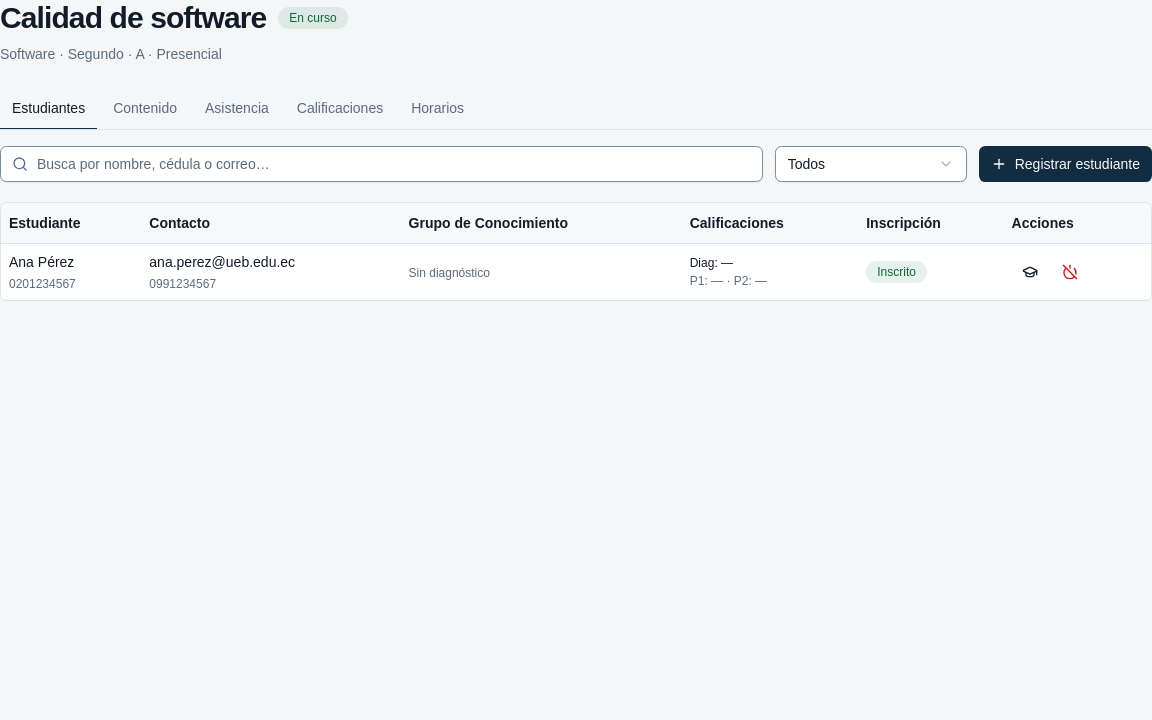
it: Módulo Docente › evita inscripciones duplicadas y conserva el formulario cuando el servidor rechaza
The width and height of the screenshot is (1152, 720).
Expected: the text "Ana Pérez" is shown, [9,254,74,270]
Click the button "Registrar estudiante" at (1065, 164), box [979,146,1151,182]
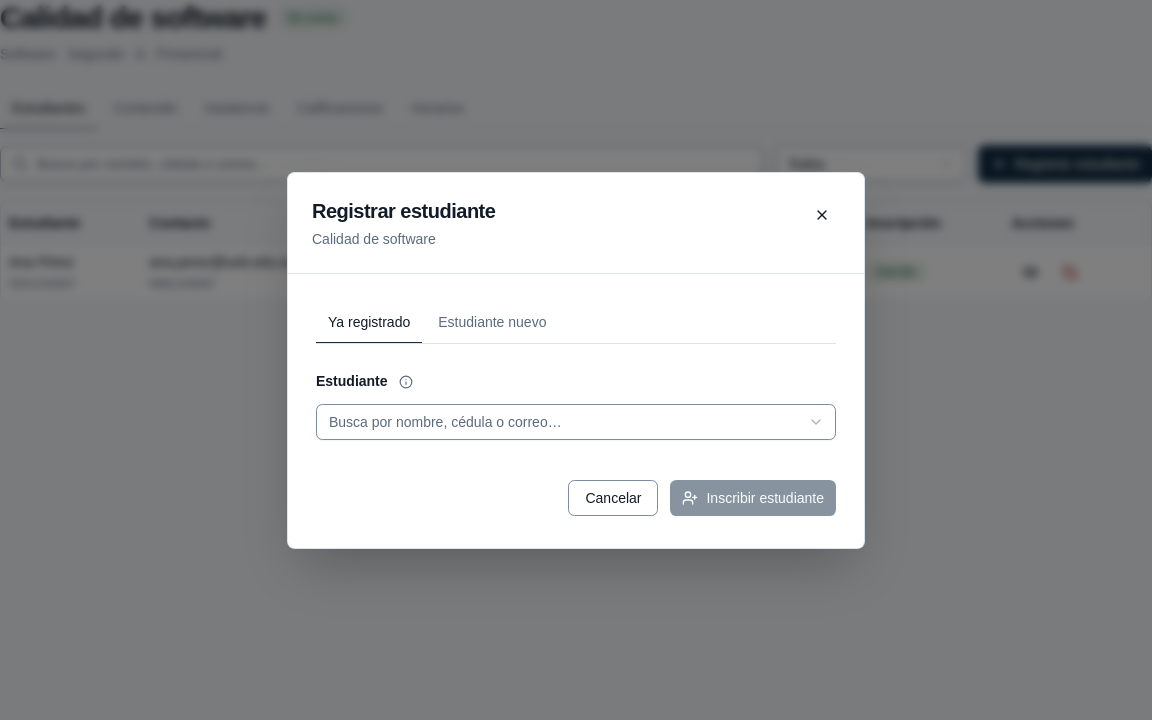
Click the dropdown labelled "Estudiante" at (576, 422), box [316,404,836,440]
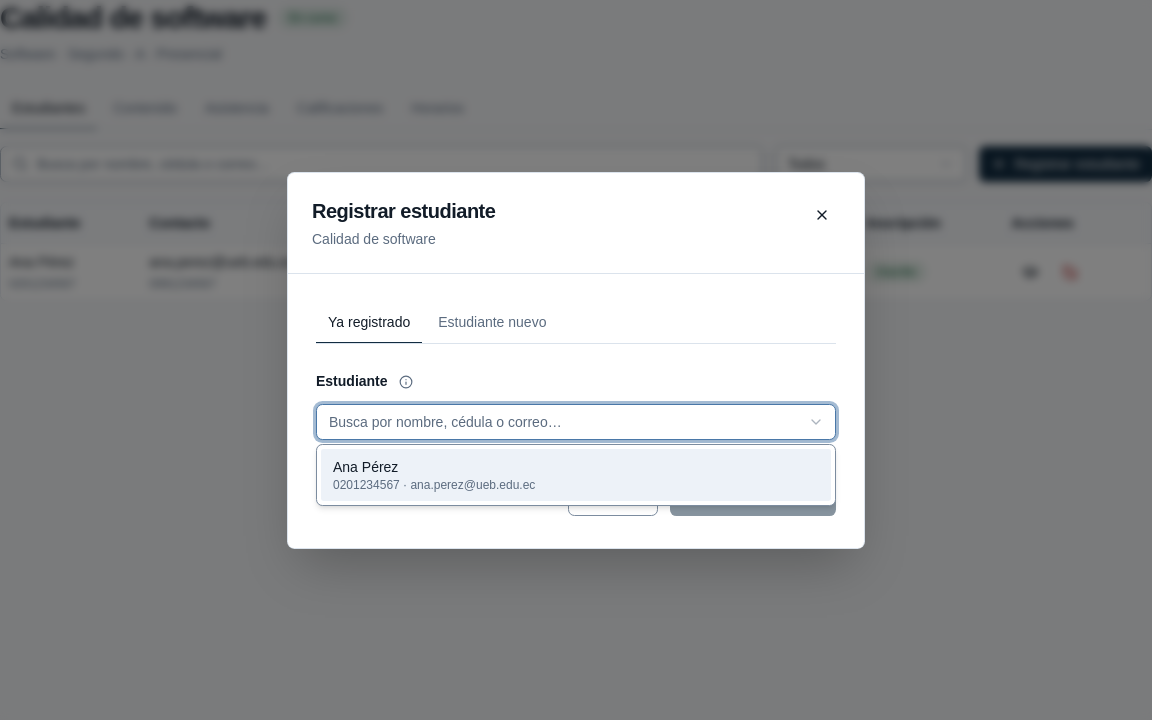
Click the option "Ana Pérez 0201234567 · ana.perez@ueb.edu.ec" at (366, 467), box [321,449,831,501]
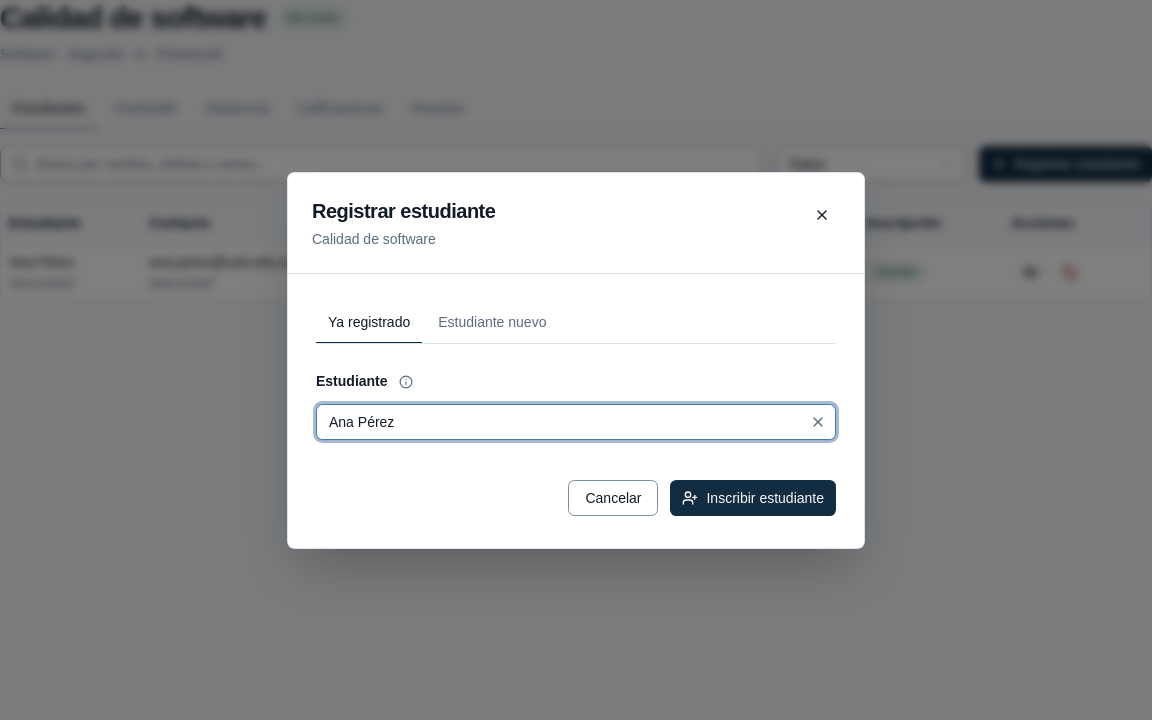
Submit the form named "Registrar estudiante", box [312,298,840,524]
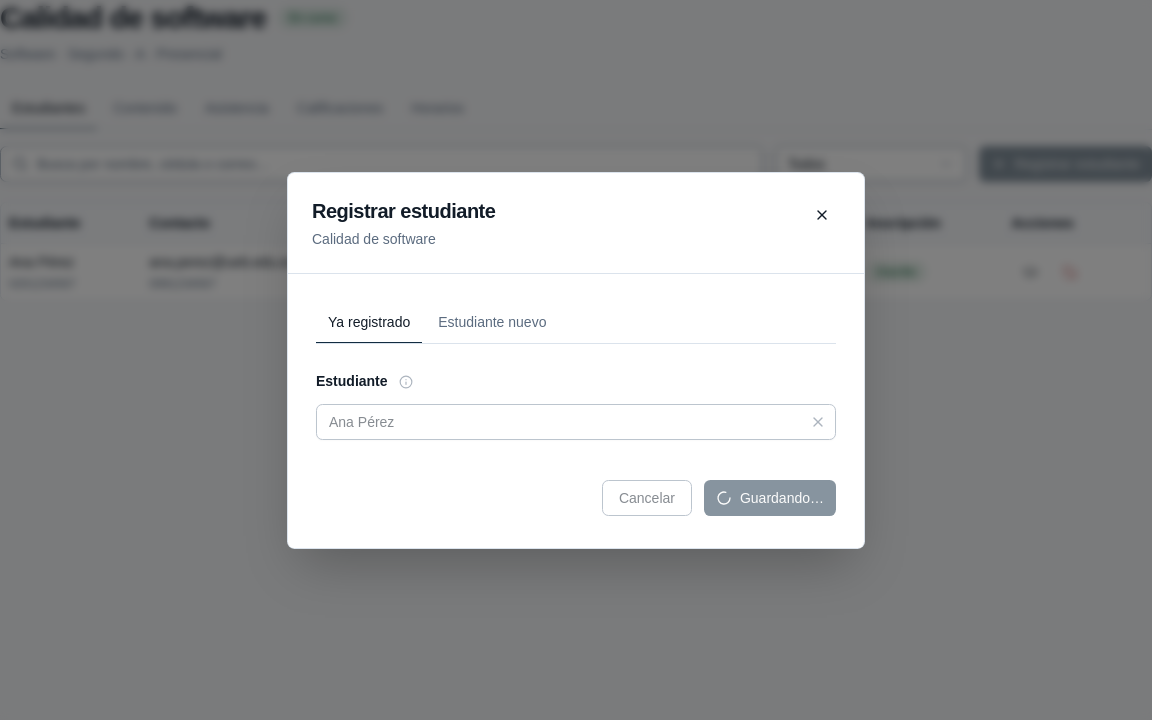
Submit the form named "Registrar estudiante", box [312,298,840,524]
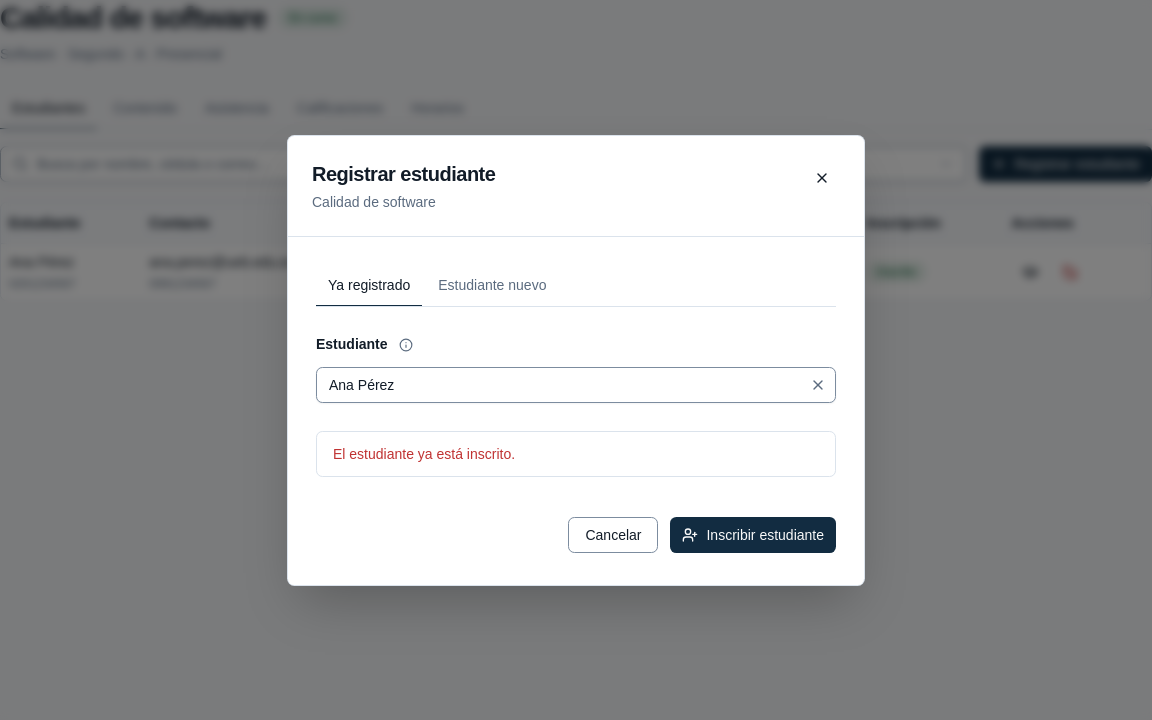
Result: the dropdown labelled "Estudiante" holds "Ana Pérez" at [316,366,836,402]
Result: the text "El estudiante ya está inscrito." is shown at [333,444,515,464]
Result: the button "Inscribir estudiante" is enabled at [670,516,836,552]
